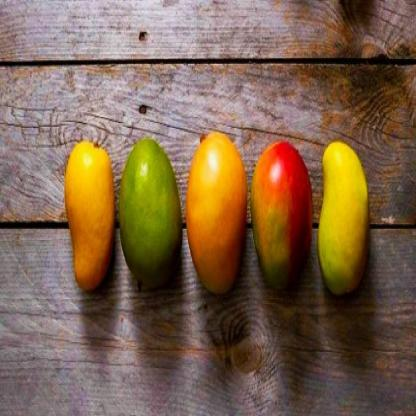--: (248, 120, 314, 297), (116, 128, 184, 293), (187, 119, 247, 302), (314, 121, 374, 294), (60, 122, 115, 296)
